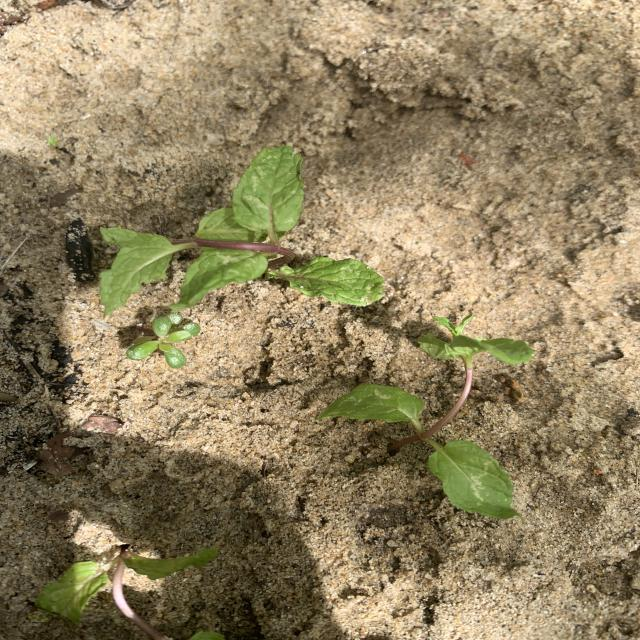crop: (100, 145, 384, 316), (316, 316, 533, 519), (35, 545, 218, 640)
weed: (126, 313, 199, 367)
